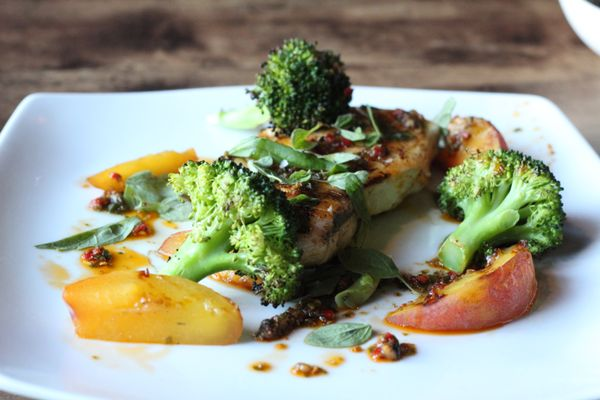curry: (154, 158, 304, 305), (432, 148, 567, 276), (252, 36, 353, 136)
